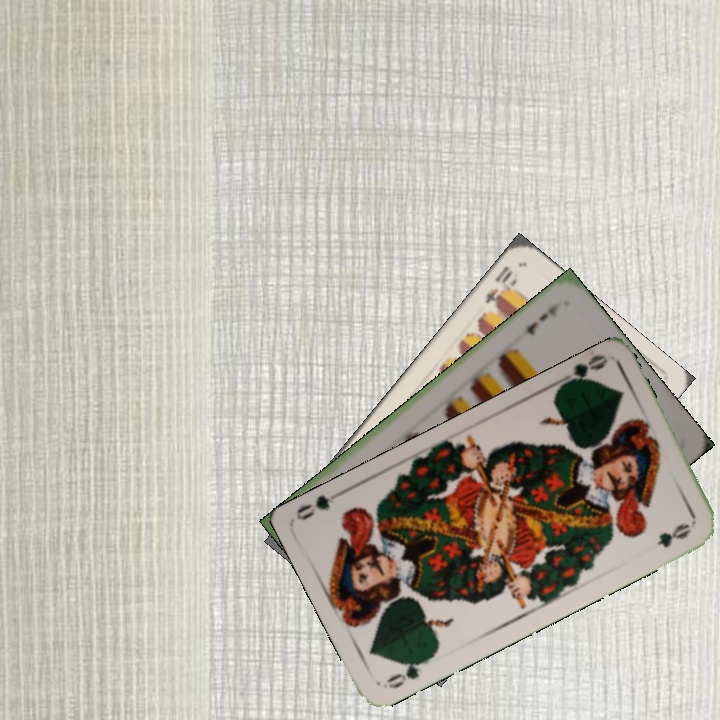E10: (481, 262, 521, 311)
E7: (521, 299, 564, 338)
GO: (552, 350, 609, 391), (382, 653, 434, 692)
